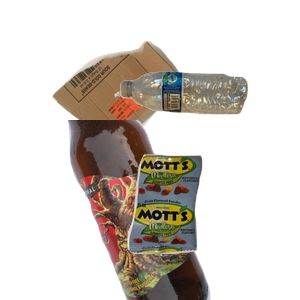cardboard: (50, 38, 233, 184)
glass: (65, 120, 300, 300)
plastic: (118, 69, 300, 176)
trash: (125, 152, 300, 300)
